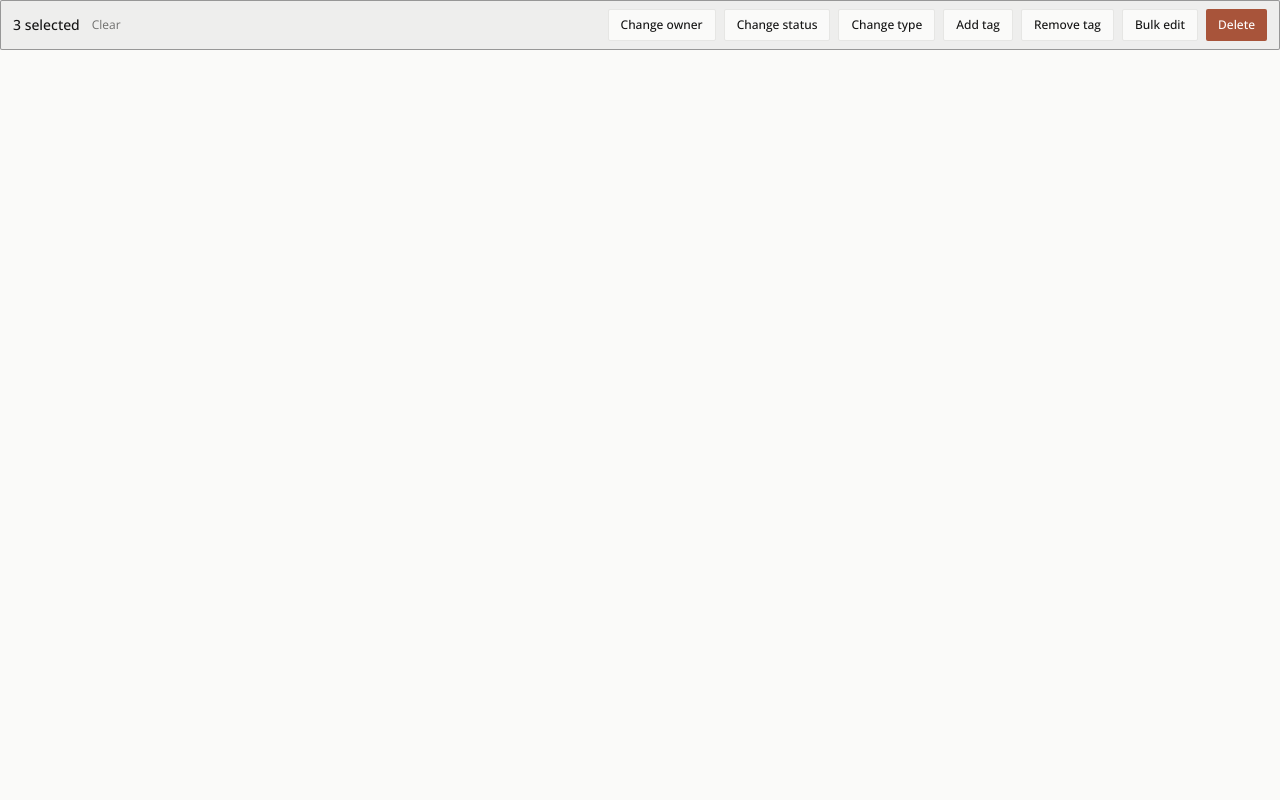
Test: SelectionBanner › Delete button opens the delete confirmation modal with a count-aware body
The width and height of the screenshot is (1280, 800).
Click the button "Delete".
click(1237, 25)  # box [1206,9,1267,41]
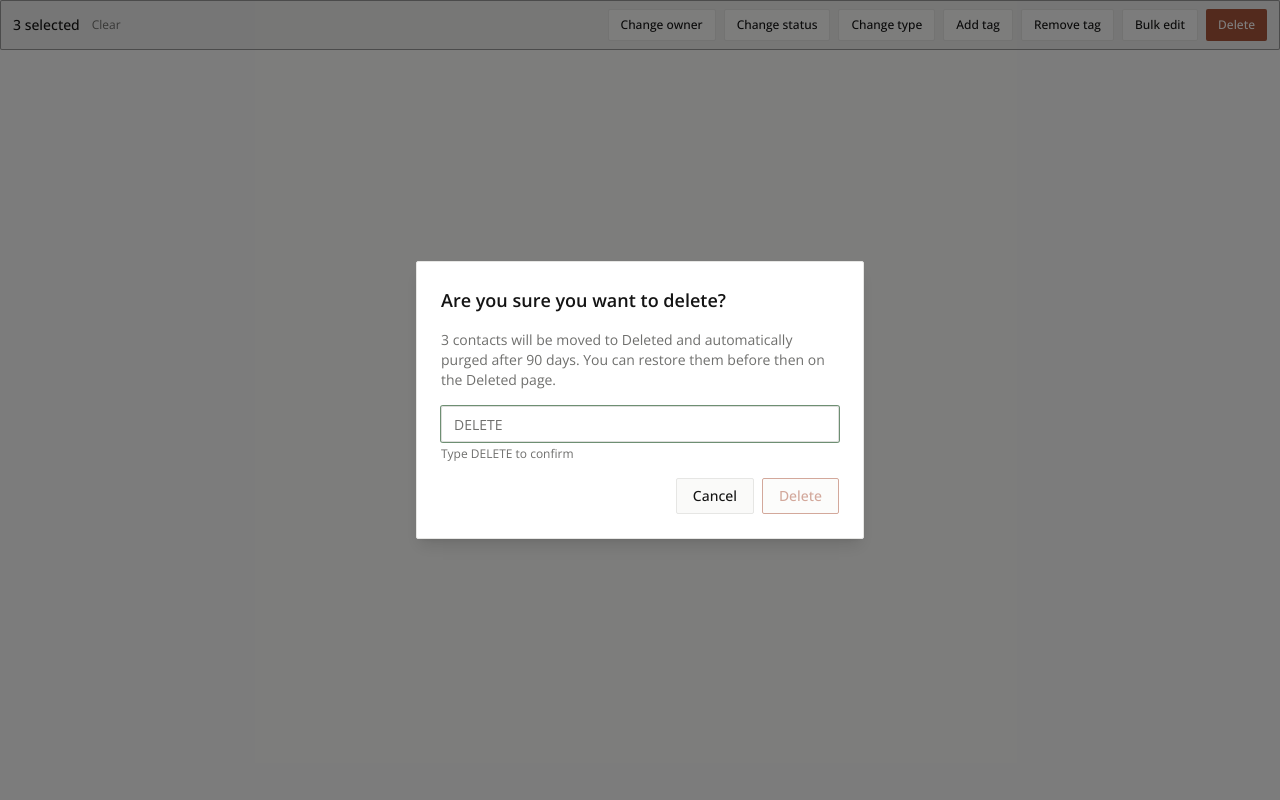
Check: the text "3 contacts will be moved to Deleted" is shown, box [441,330,825,389]
